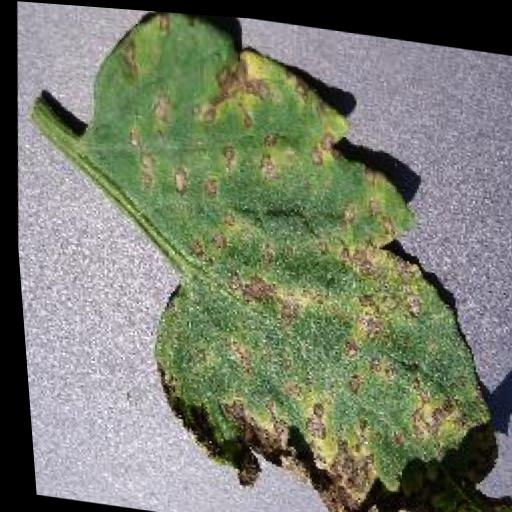Septoria: (52, 3, 512, 512)
